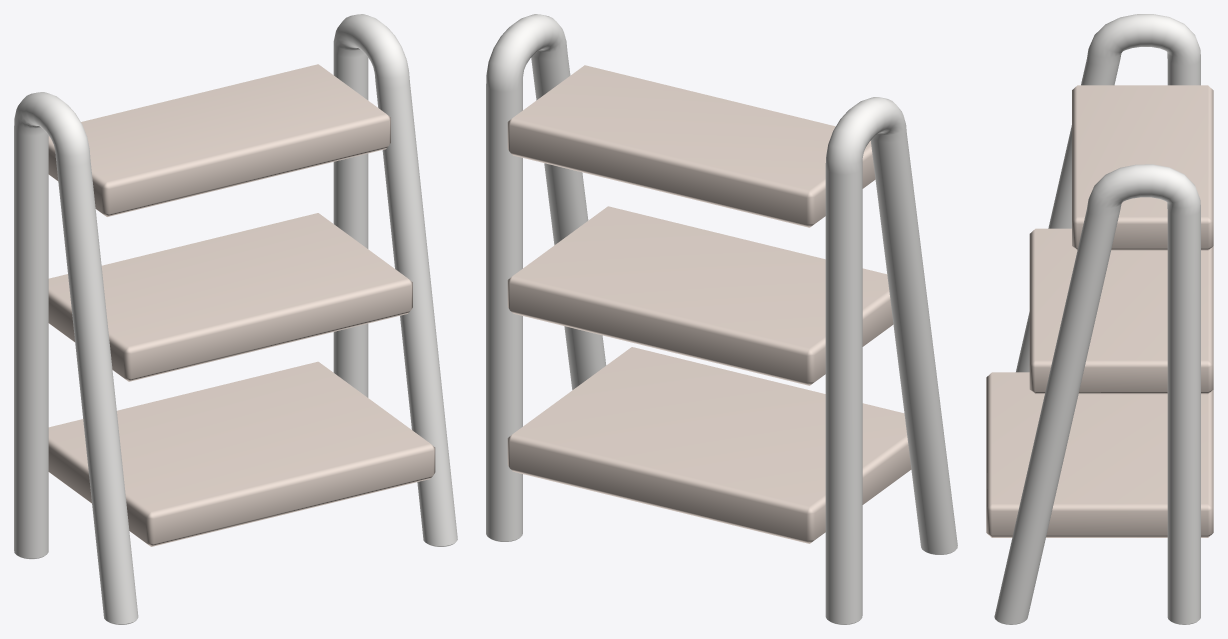
Rendered from Ladder_white.glb.
The picture shows the model from 3 angles, left to right: view 1: azimuth 30°, elevation 25°; view 2: azimuth 150°, elevation 25°; view 3: azimuth 270°, elevation 25°; orthographic projection. The views are drawn at different scales.
Parts seen in each view (by area): view 1: Shelf_4; view 2: Shelf_4; view 3: Shelf_4.
Boxes of the visible parts, <box> form: Shelf_4: <box>14,14,457,624</box>; Shelf_4: <box>486,14,957,624</box>; Shelf_4: <box>986,14,1213,624</box>.
Bounding box in the file's own units: 1.01 × 1.29 × 0.5875.
1 material, 1 textured.
